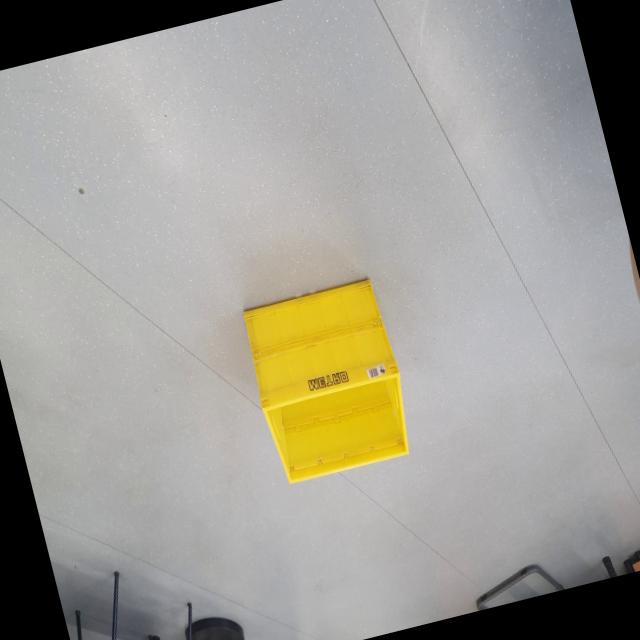box: (232, 262, 426, 499)
